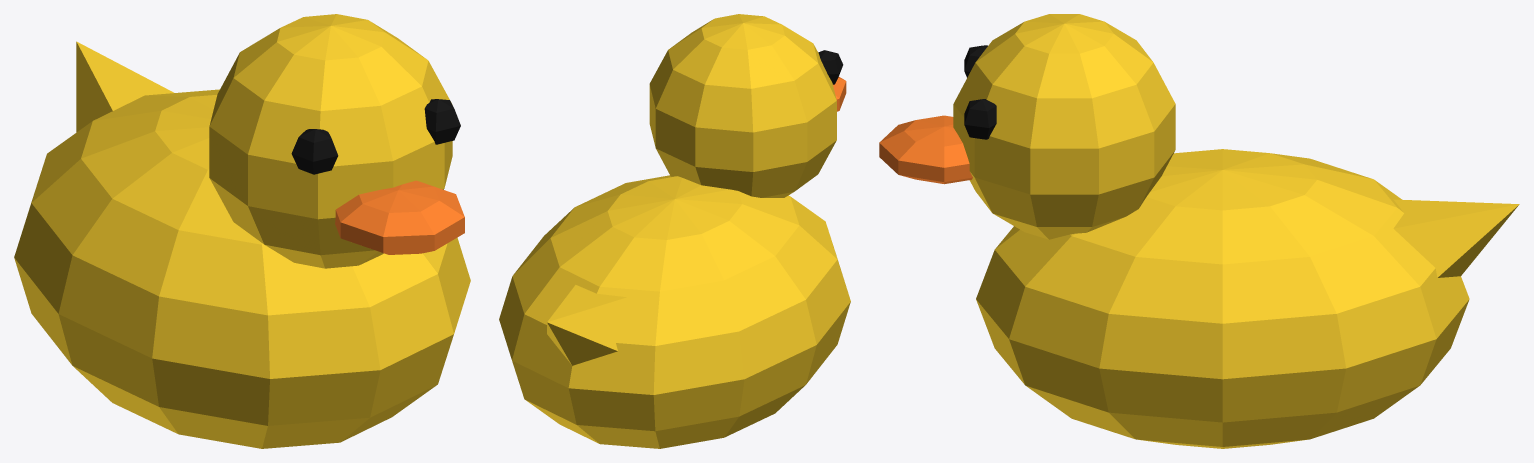
Rendered from quietscheente.glb.
The picture shows the model from 3 angles, left to right: view 1: azimuth 30°, elevation 25°; view 2: azimuth 150°, elevation 25°; view 3: azimuth 270°, elevation 25°; orthographic projection. The views are drawn at different scales.
Parts seen in each view (by area): view 1: ente; view 2: ente; view 3: ente.
Part boxes in pixels (x1=…): ente: x1=14, y1=14, x2=470, y2=448; ente: x1=499, y1=14, x2=850, y2=448; ente: x1=879, y1=14, x2=1519, y2=448.
Bounding box in the file's own units: 0.6 × 0.705 × 1.01.
